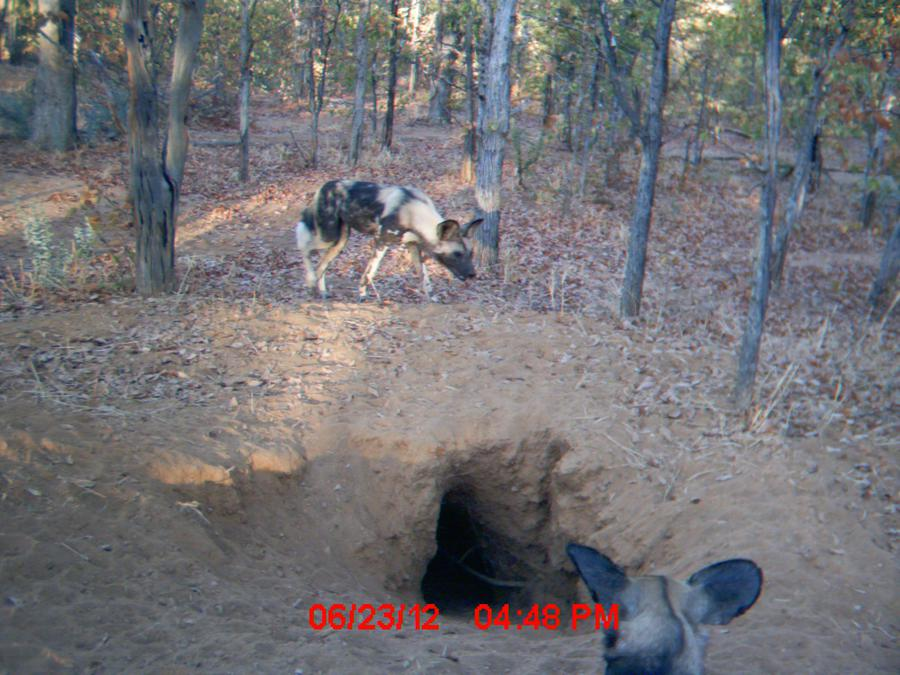wilddog: (313, 163, 484, 304)
